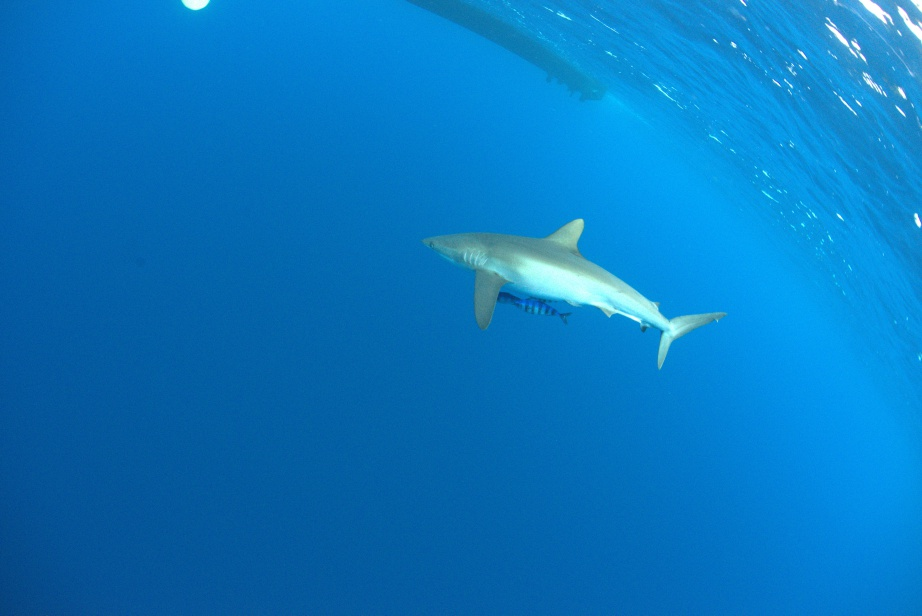Sedoso: (406, 211, 730, 380)
